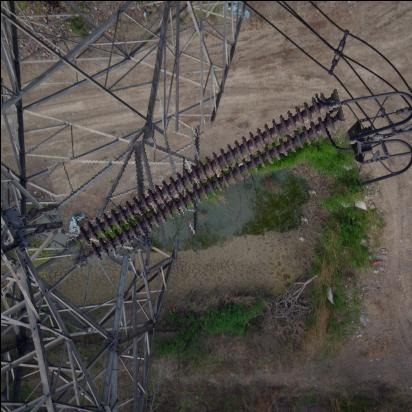insulator: (51, 107, 359, 251)
